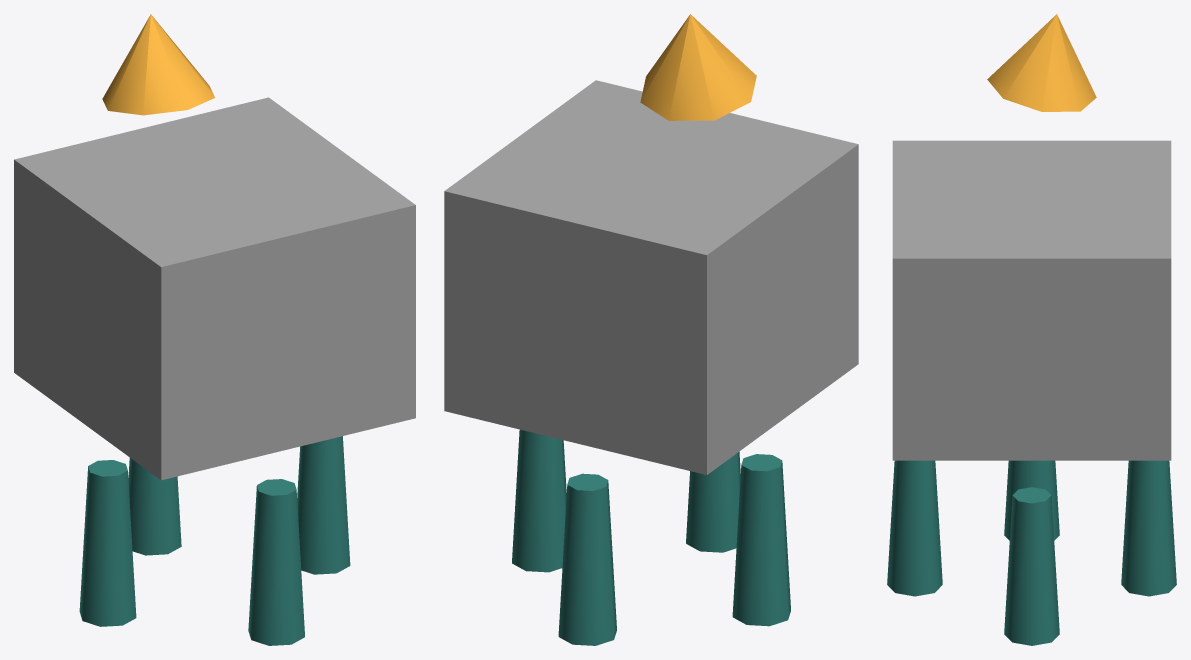
Rendered from four-legged-placement.glb.
3 views of the same model, side by side, from view 1: azimuth 30°, elevation 25°; view 2: azimuth 150°, elevation 25°; view 3: azimuth 270°, elevation 25° (orthographic). The views are drawn at different scales.
Parts seen in each view (by area): view 1: Painted body, Part (×4), Fitted gear; view 2: Painted body, Part (×4), Fitted gear; view 3: Painted body, Part (×4), Fitted gear.
Part boxes in pixels (bbox=[...]): Painted body: bbox=[14, 97, 415, 480]; Part (×4): bbox=[79, 436, 350, 645]; Fitted gear: bbox=[102, 14, 214, 115]; Painted body: bbox=[444, 80, 858, 474]; Part (×4): bbox=[512, 429, 790, 645]; Fitted gear: bbox=[640, 14, 756, 120]; Painted body: bbox=[892, 140, 1171, 460]; Part (×4): bbox=[887, 460, 1176, 645]; Fitted gear: bbox=[987, 14, 1096, 111].
Size of the model in its own units: 1.04 by 2.17 by 1.04.
